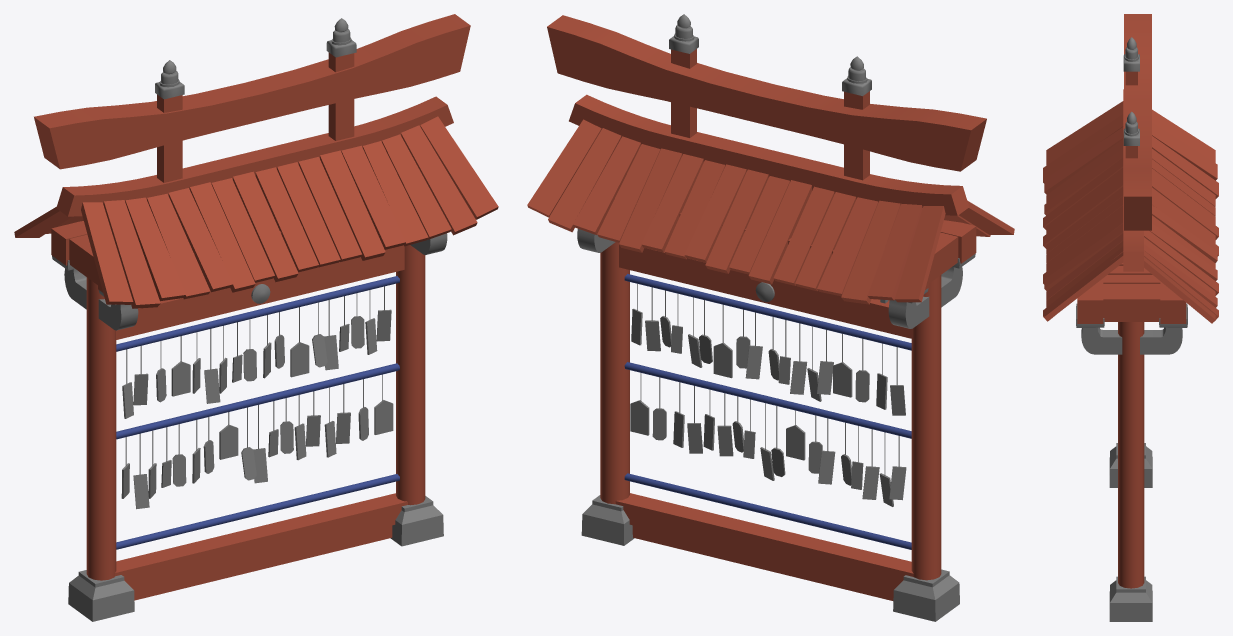
File: SM_votive.fbx
3 renders of one model, left to right at view 1: azimuth 30°, elevation 25°; view 2: azimuth 150°, elevation 25°; view 3: azimuth 270°, elevation 25°, orthographic. The views are drawn at different scales.
Parts seen in each view (by area): view 1: Object32445; view 2: Object32445; view 3: Object32445.
Part boxes in pixels (box(x1,y1,x2,y2)): Object32445: box(14, 14, 498, 621); Object32445: box(527, 14, 1014, 621); Object32445: box(1043, 14, 1218, 621).
Bounding box in the file's own units: 199 × 240 × 81.05.
